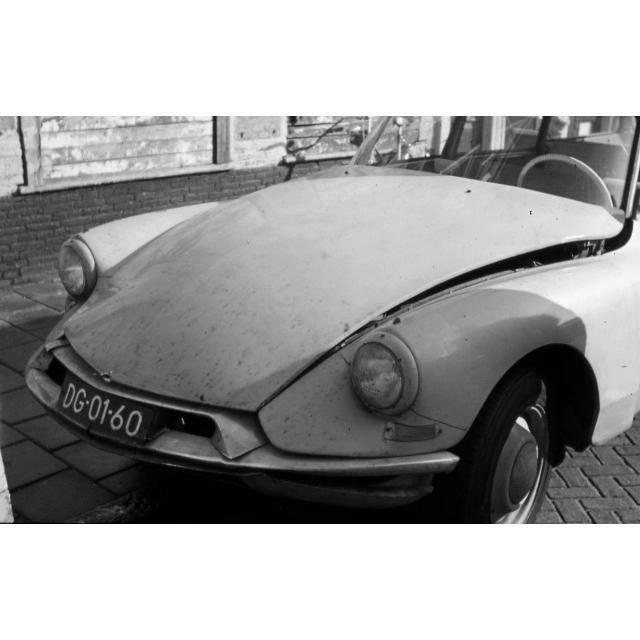bonnet-dent: (140, 162, 624, 323)
